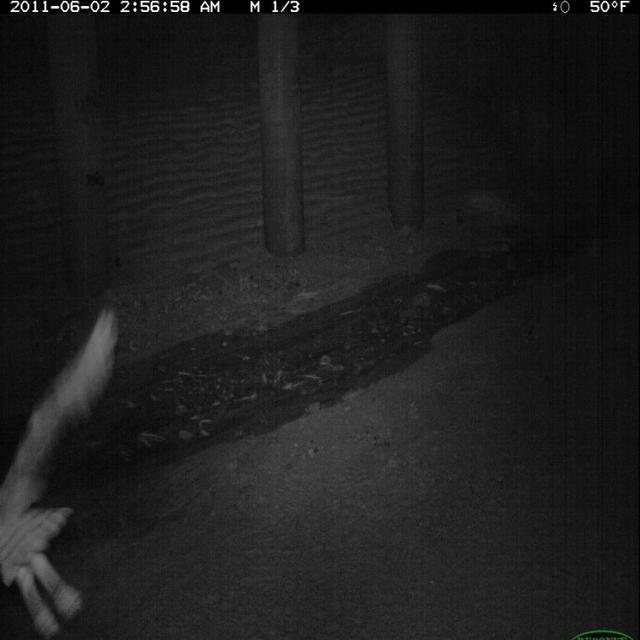bird: (1, 298, 125, 640)
